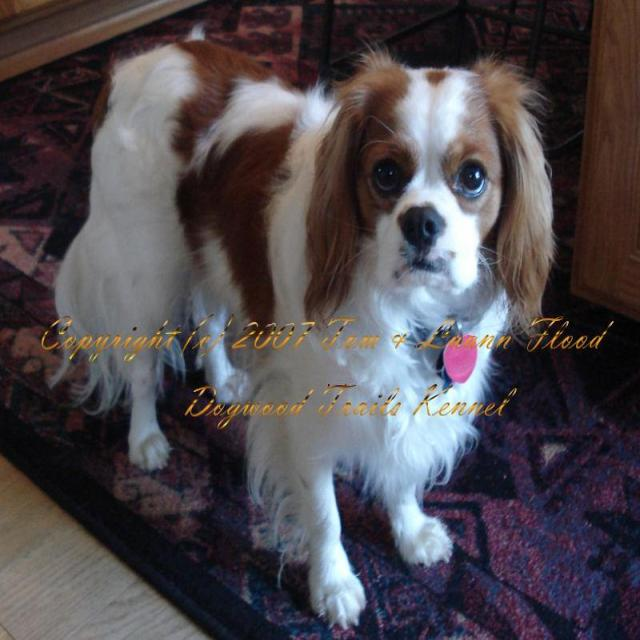blenheim_spaniel: (52, 22, 558, 630)
